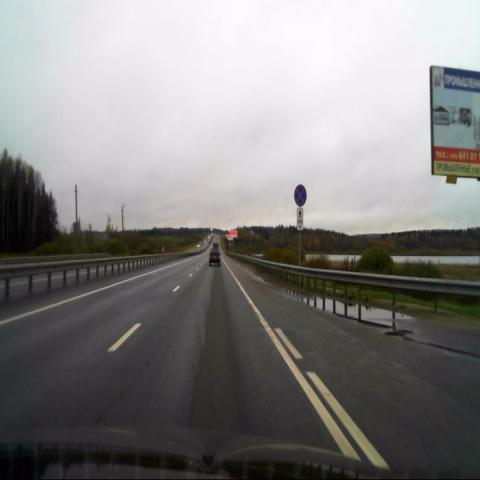3_27: (294, 184, 306, 205)
